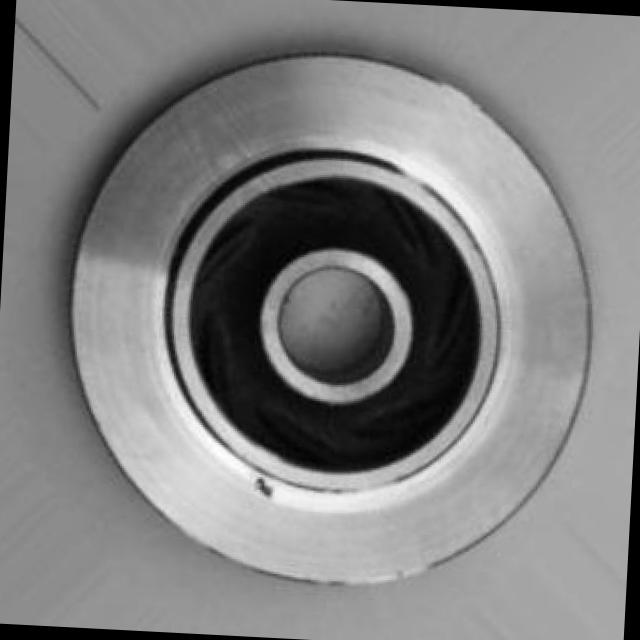Defect: (251, 470, 282, 507)
